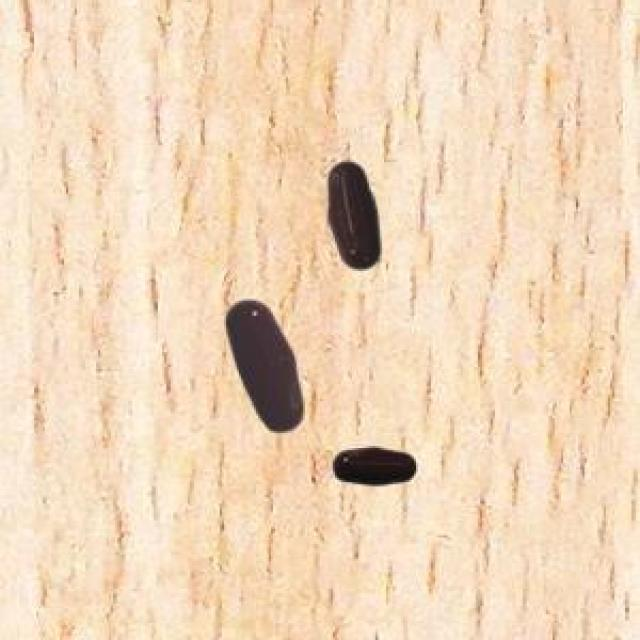DayZinc: (213, 295, 310, 439), (321, 140, 395, 278), (321, 436, 425, 502)
